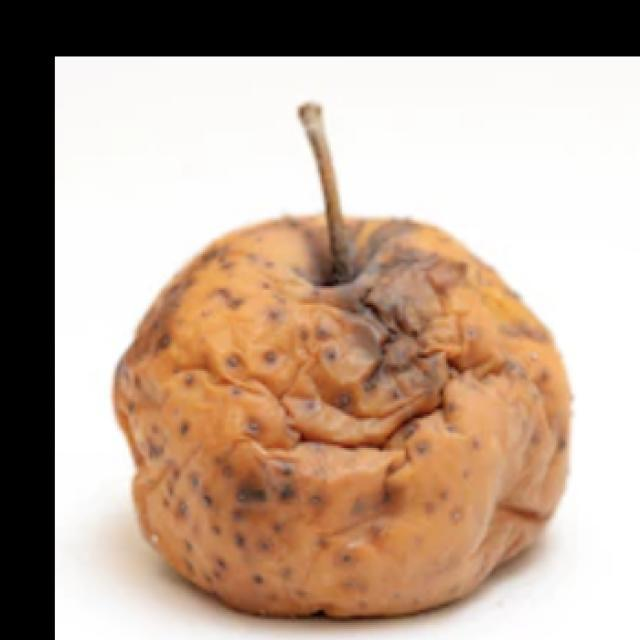Rotten: (110, 205, 577, 618)
